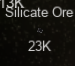Silicate: (5, 7, 73, 52)
